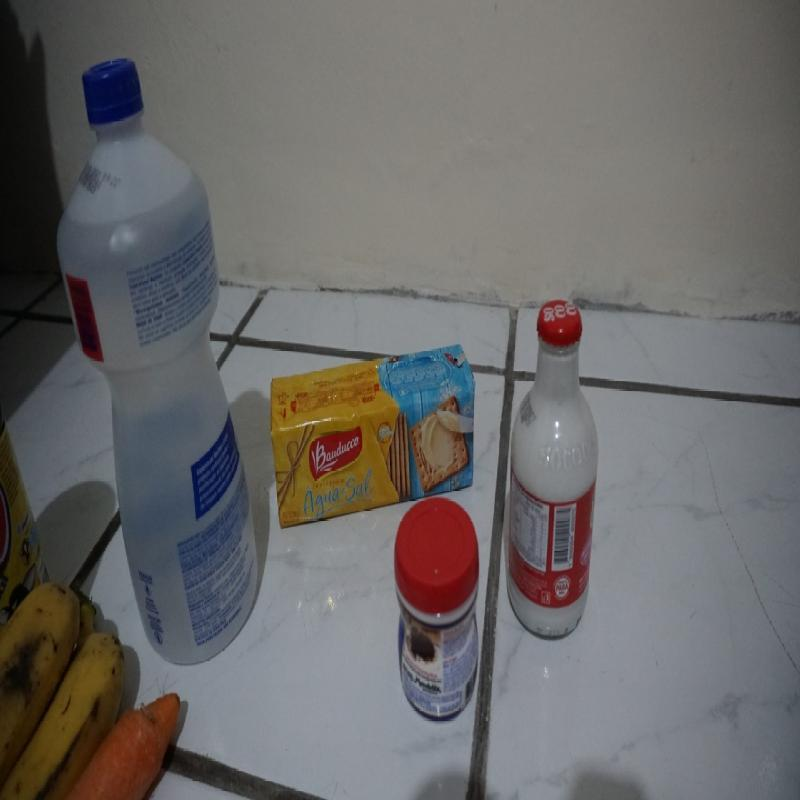Alcohol Bottle: (63, 54, 258, 576)
Banana: (4, 586, 82, 782)
Carrot: (89, 683, 194, 791)
Coconut Milk: (504, 300, 601, 646)
Cracker: (269, 337, 484, 495)
Yeast: (392, 496, 485, 716)
